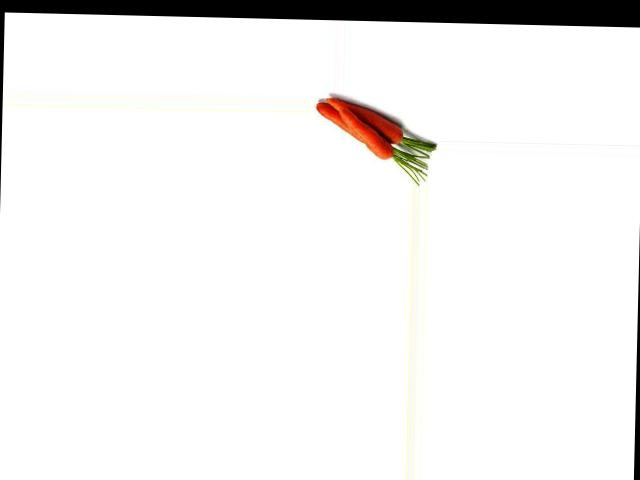carrot: (315, 102, 367, 143)
